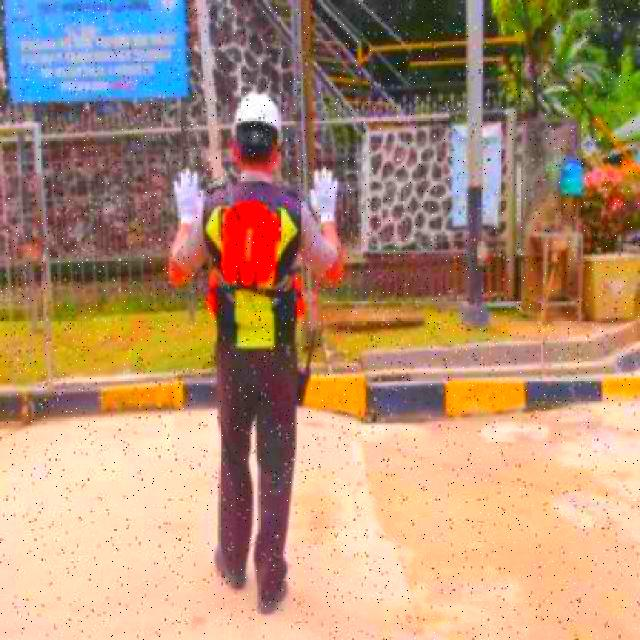Boots: (214, 539, 251, 593), (256, 568, 290, 618)
Gloves: (307, 166, 341, 228), (169, 168, 206, 223)
Helmet: (232, 88, 286, 144)
Mask: (218, 200, 278, 288)
